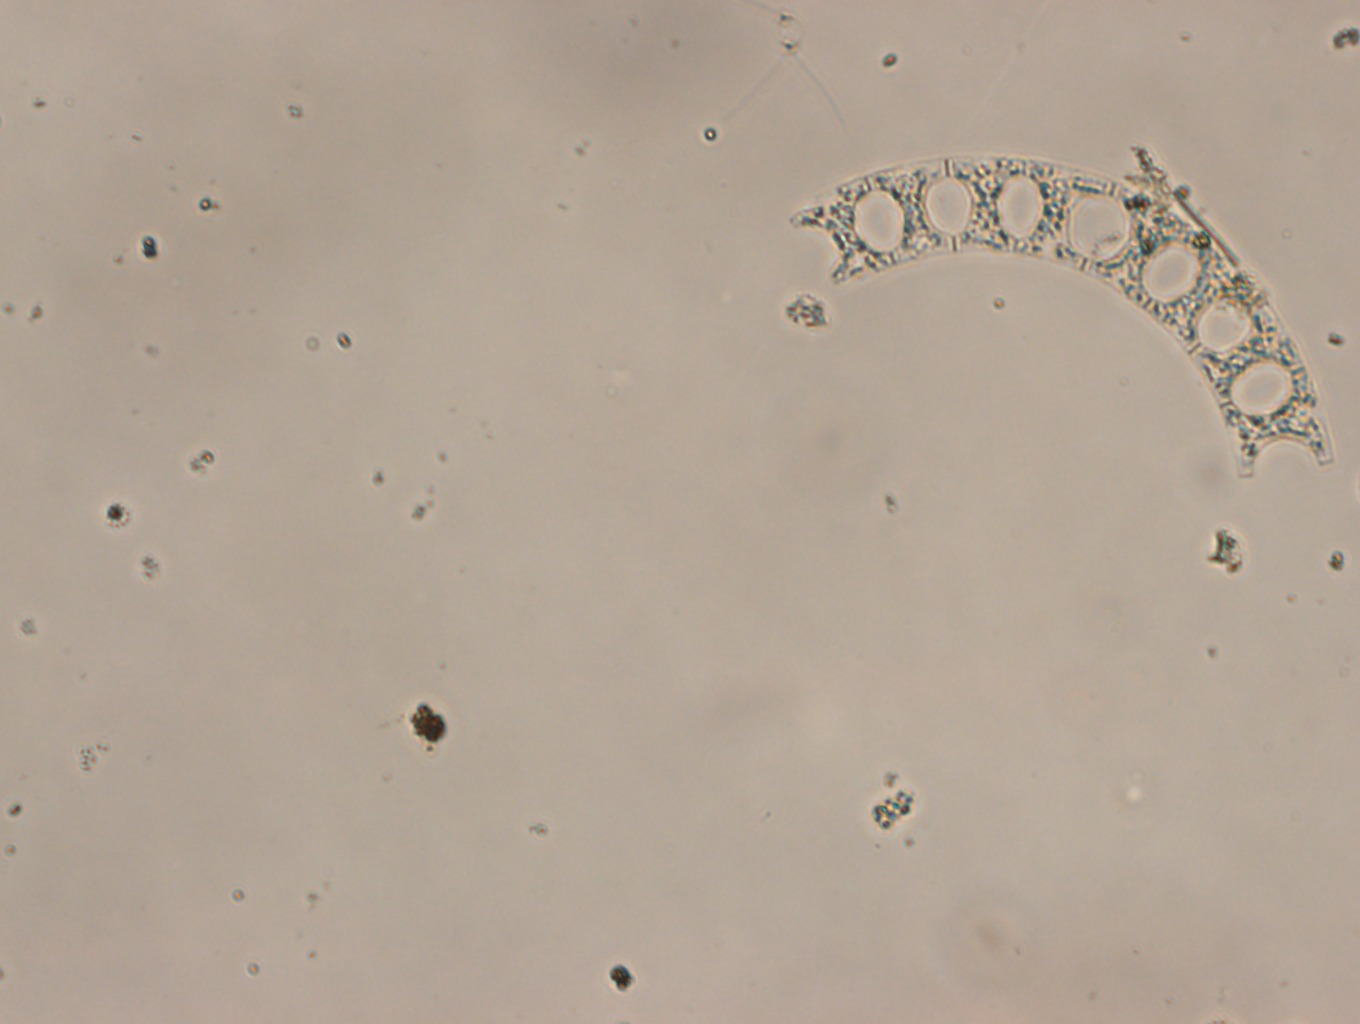eucampia: (787, 155, 1336, 483)
